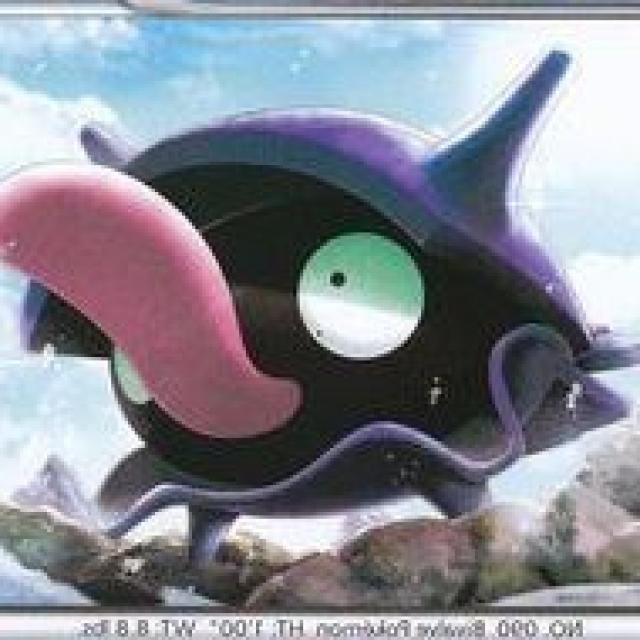Shellder: (2, 63, 640, 518)
